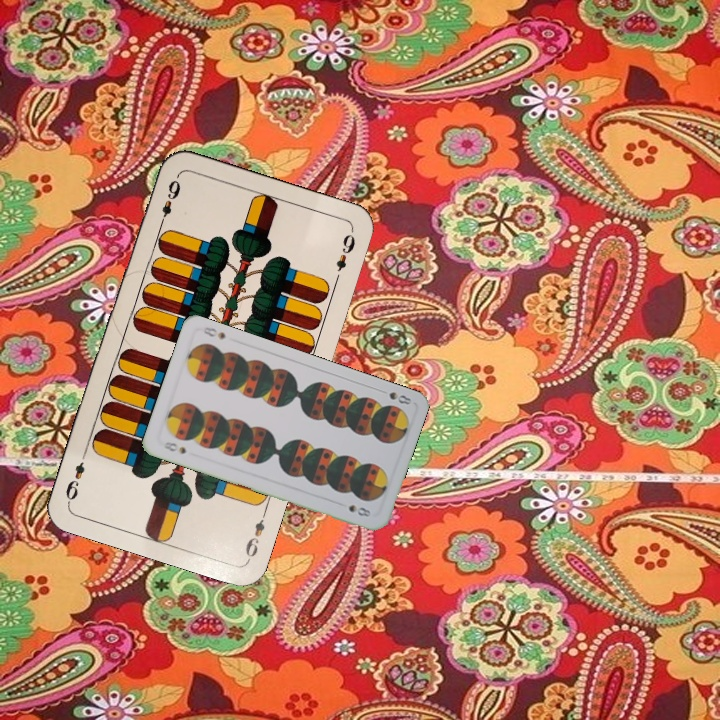E9: (241, 505, 270, 563), (155, 173, 183, 230)
S8: (375, 385, 414, 407), (159, 438, 188, 457)
